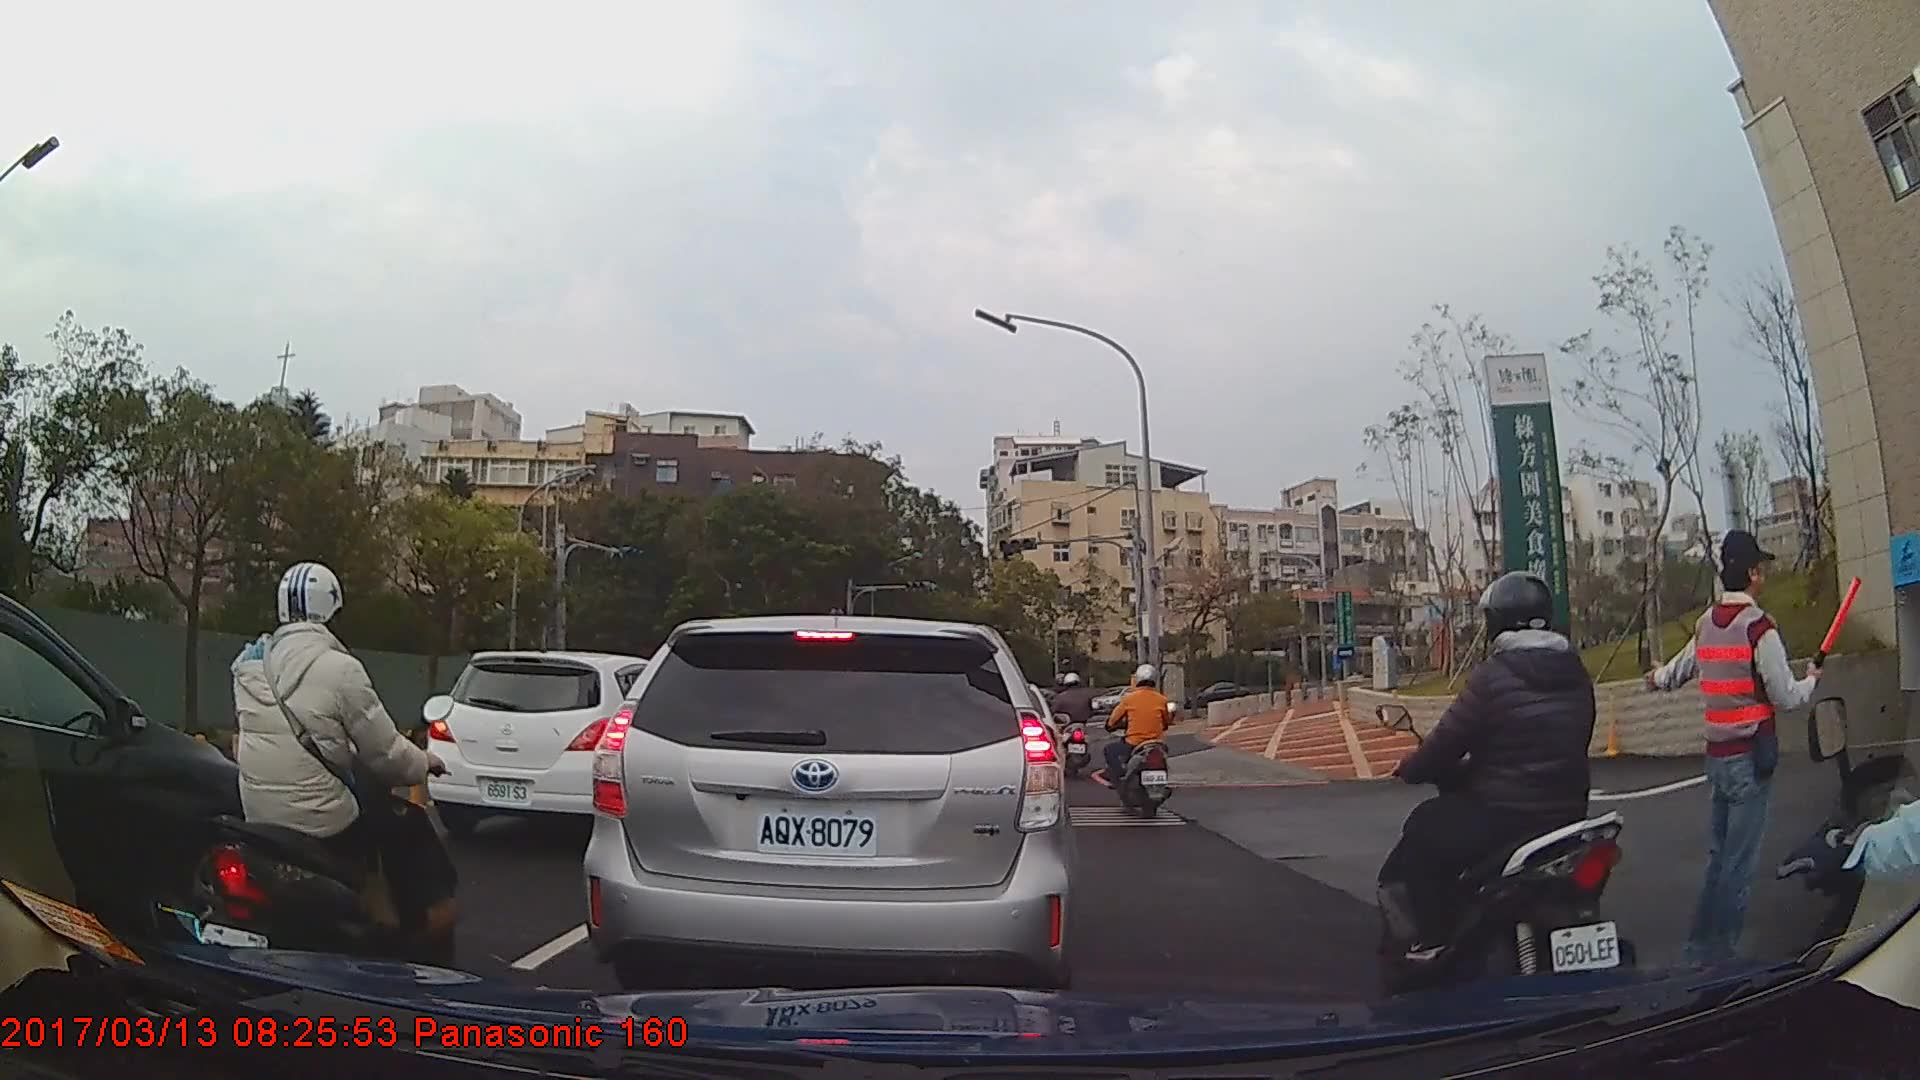pedestrian: (1639, 527, 1849, 983)
rider: (190, 561, 469, 1014), (1382, 573, 1642, 993), (1101, 658, 1179, 817), (1053, 668, 1097, 777)
vehicle: (577, 613, 1075, 989), (0, 588, 284, 956), (424, 649, 686, 841), (1183, 679, 1253, 717)
